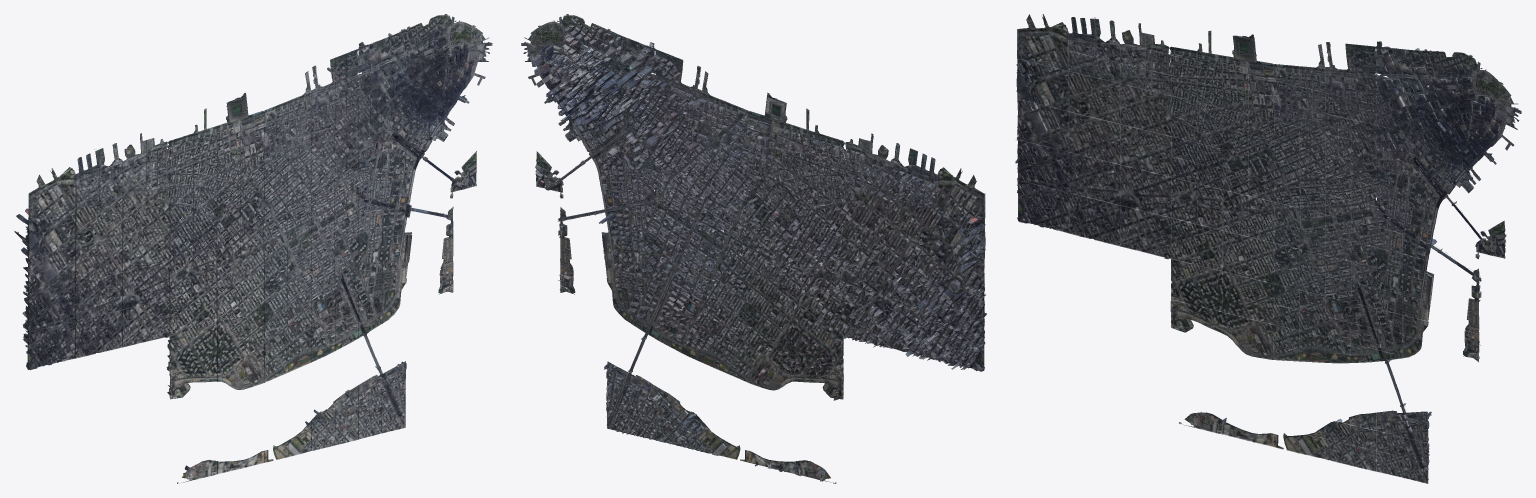
3 renders of one model, left to right at view 1: azimuth 30°, elevation 25°; view 2: azimuth 150°, elevation 25°; view 3: azimuth 330°, elevation 25°, orthographic. The views are drawn at different scales.
Parts seen in each view (by area): view 1: NewYork-Mnhtprt-2, NewYork-Mnhtprt-4, NewYork-Mnhtprt-3, NewYork-Mnhtprt-6, NewYork-Mnhtprt-5, NewYork-Mnhtprt-1, NewYork-Mnhtprt-9, NewYork-Mnhtprt-0, NewYork-Mnhtprt-7, NewYork-Mnhtprt-8, NewYork-Mnhtprt-10; view 2: NewYork-Mnhtprt-2, NewYork-Mnhtprt-4, NewYork-Mnhtprt-6, NewYork-Mnhtprt-3, NewYork-Mnhtprt-5, NewYork-Mnhtprt-1, NewYork-Mnhtprt-9, NewYork-Mnhtprt-7, NewYork-Mnhtprt-0, NewYork-Mnhtprt-8, NewYork-Mnhtprt-10; view 3: NewYork-Mnhtprt-2, NewYork-Mnhtprt-4, NewYork-Mnhtprt-3, NewYork-Mnhtprt-6, NewYork-Mnhtprt-5, NewYork-Mnhtprt-1, NewYork-Mnhtprt-9, NewYork-Mnhtprt-0, NewYork-Mnhtprt-7, NewYork-Mnhtprt-8, NewYork-Mnhtprt-10.
Part boxes in pixels (x1,y1,x2,y2): NewYork-Mnhtprt-2: [14, 133, 169, 370]; NewYork-Mnhtprt-4: [167, 92, 264, 335]; NewYork-Mnhtprt-3: [166, 266, 453, 399]; NewYork-Mnhtprt-6: [263, 49, 358, 237]; NewYork-Mnhtprt-5: [263, 192, 453, 312]; NewYork-Mnhtprt-1: [177, 358, 406, 483]; NewYork-Mnhtprt-9: [357, 62, 406, 167]; NewYork-Mnhtprt-0: [405, 42, 492, 118]; NewYork-Mnhtprt-7: [357, 14, 489, 73]; NewYork-Mnhtprt-8: [357, 151, 476, 214]; NewYork-Mnhtprt-10: [405, 108, 454, 156]; NewYork-Mnhtprt-2: [840, 133, 986, 371]; NewYork-Mnhtprt-4: [745, 92, 846, 336]; NewYork-Mnhtprt-6: [644, 49, 749, 239]; NewYork-Mnhtprt-3: [558, 267, 843, 400]; NewYork-Mnhtprt-5: [558, 193, 748, 313]; NewYork-Mnhtprt-1: [604, 361, 836, 483]; NewYork-Mnhtprt-9: [595, 62, 655, 168]; NewYork-Mnhtprt-7: [524, 14, 655, 77]; NewYork-Mnhtprt-0: [521, 42, 607, 120]; NewYork-Mnhtprt-8: [535, 151, 655, 215]; NewYork-Mnhtprt-10: [558, 109, 607, 156]; NewYork-Mnhtprt-2: [1015, 14, 1171, 259]; NewYork-Mnhtprt-4: [1168, 30, 1274, 283]; NewYork-Mnhtprt-3: [1170, 258, 1480, 393]; NewYork-Mnhtprt-6: [1273, 42, 1376, 226]; NewYork-Mnhtprt-5: [1273, 202, 1481, 333]; NewYork-Mnhtprt-1: [1179, 393, 1431, 483]; NewYork-Mnhtprt-9: [1375, 74, 1427, 188]; NewYork-Mnhtprt-0: [1426, 86, 1521, 164]; NewYork-Mnhtprt-7: [1375, 41, 1517, 106]; NewYork-Mnhtprt-8: [1376, 176, 1506, 258]; NewYork-Mnhtprt-10: [1427, 148, 1480, 194].
Size of the model in its own units: 4.77 by 3.97 by 0.4883.
Materials: 11 (11 with a texture image).
